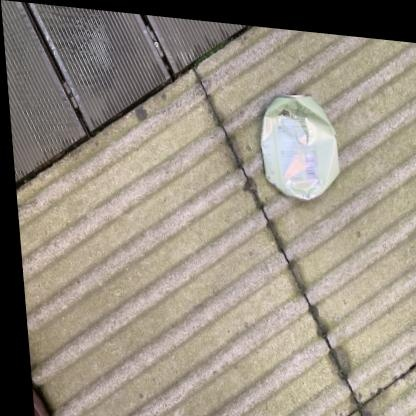trash: (261, 95, 338, 199)
